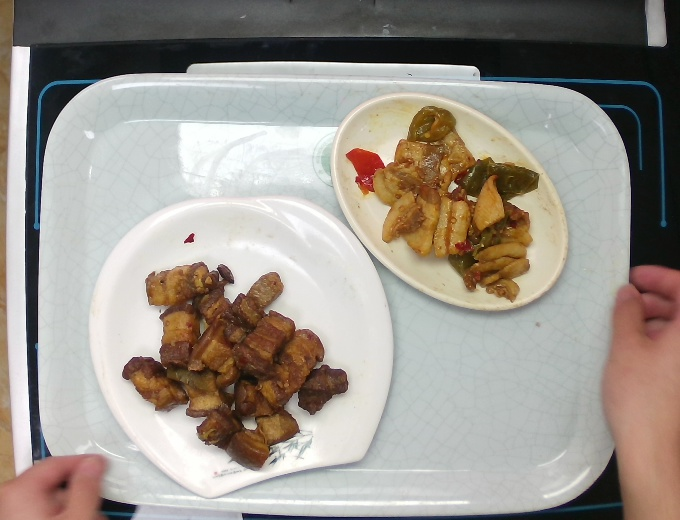JYsf-Mian_Pan: (85, 195, 395, 496)
JYsf-Tuo_Yuan_Wan: (331, 88, 577, 319)
